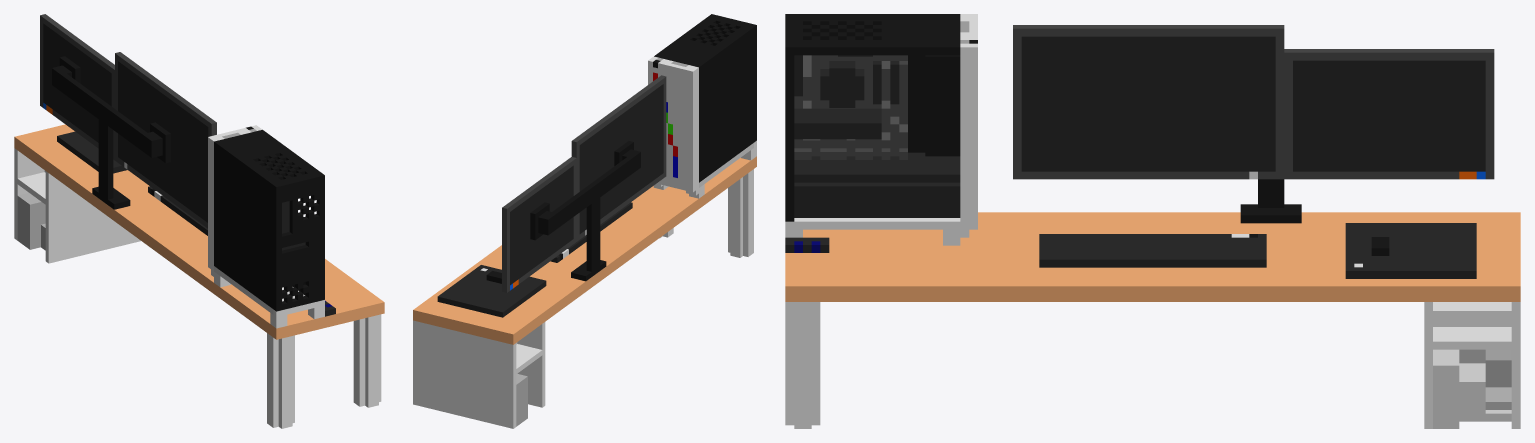
File: MyDesk.glb
3 views of the same model, side by side, from view 1: azimuth 30°, elevation 25°; view 2: azimuth 150°, elevation 25°; view 3: azimuth 270°, elevation 25° (orthographic). The views are drawn at different scales.
Parts seen in each view (by area): view 1: MyDesk; view 2: MyDesk; view 3: MyDesk.
Boxes of the visible parts, x1,y1,x2,y2 form: MyDesk: (14,14,384,428); MyDesk: (413,14,756,428); MyDesk: (785,14,1520,428).
Size of the model in its own units: 2 by 4.3 by 8.4.
Materials: 1 (1 with a texture image).
